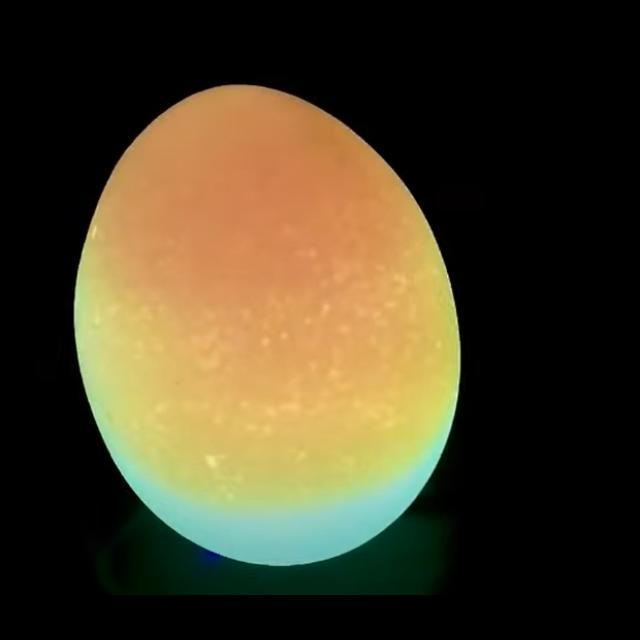AA - Premium: (68, 76, 466, 574)
